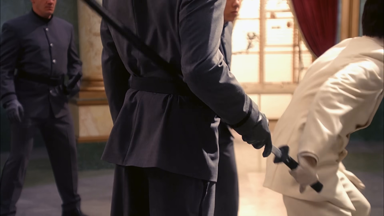bladed_weapon: (82, 1, 180, 95), (263, 136, 325, 195), (60, 67, 84, 96)
